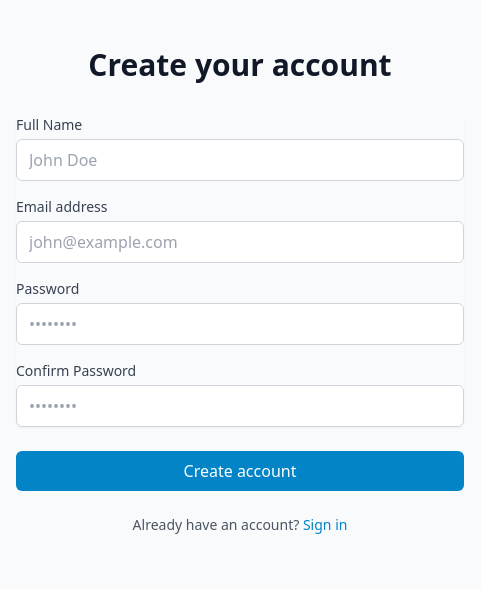
Register › validates password match
# Fill in the form with mismatched passwords
Type "Test User" into the field labelled "Full Name". click: coordinates (240, 160)
box: [16,139,464,181]
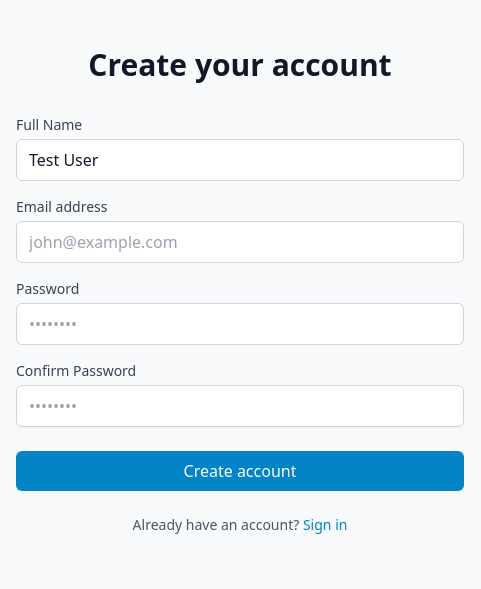
Type "test@example.com" into the field labelled "Email address". click: coordinates (240, 242)
box: [16,221,464,263]
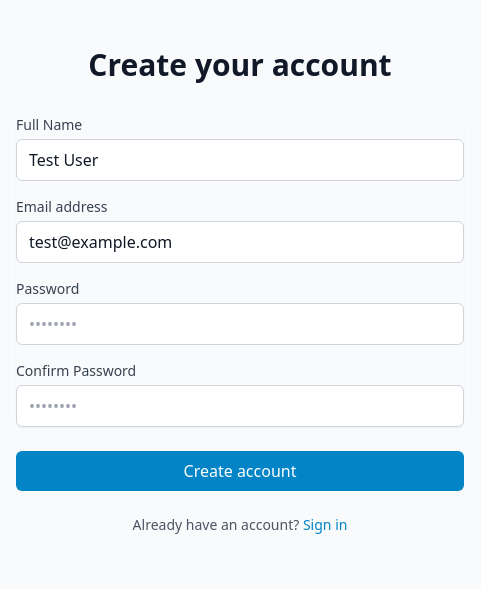
Type "password123" into the password field labelled "Password". click: coordinates (240, 324)
box: [16,303,464,345]
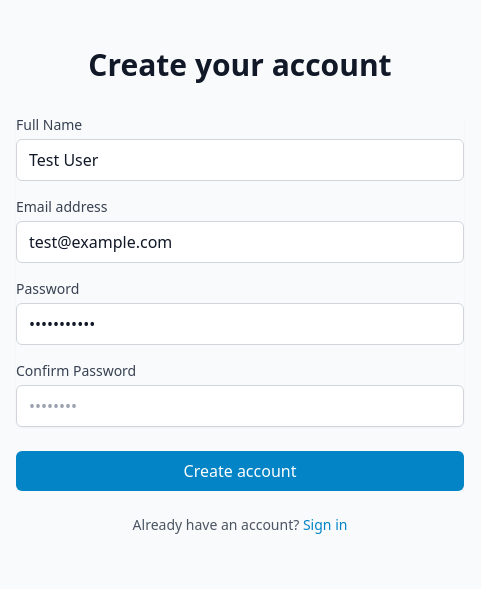
Type "different" into the password field labelled "Confirm Password". click: coordinates (240, 406)
box: [16,385,464,427]
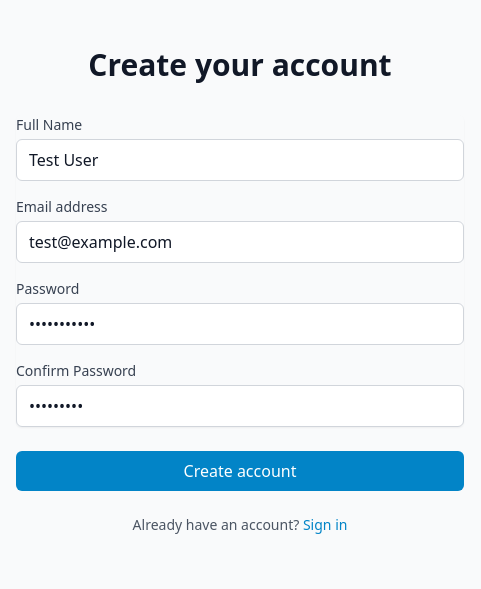
# Submit the form
Click the button "Create account". click: coordinates (240, 471)
box: [16,451,464,491]
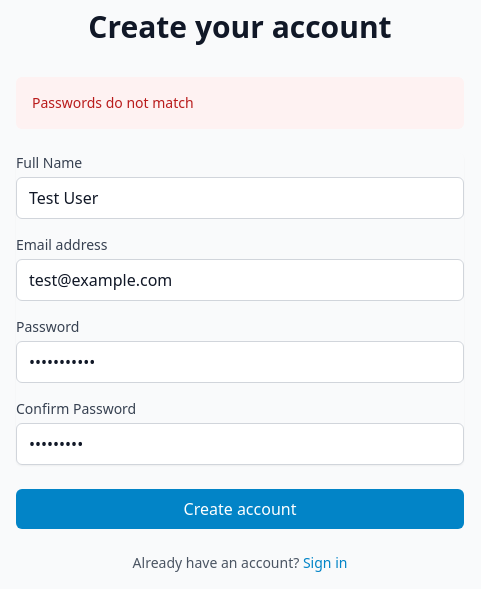
Check: the text "Passwords do not match" is shown, box [32,93,194,112]
